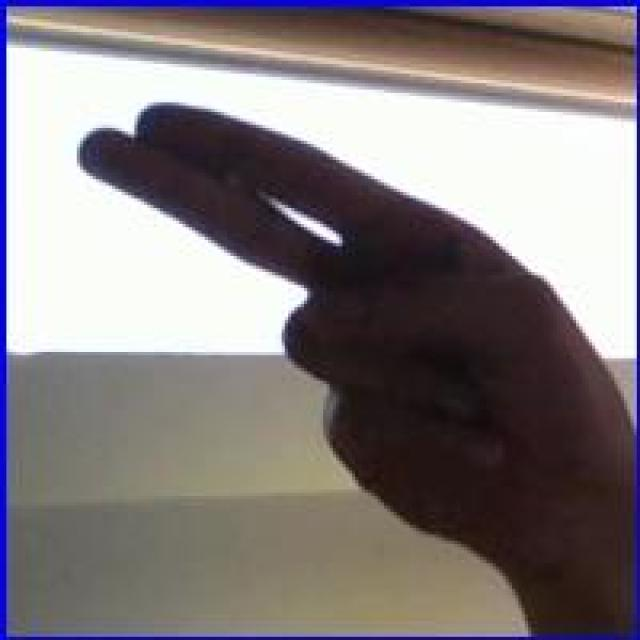H: (65, 98, 622, 564)
